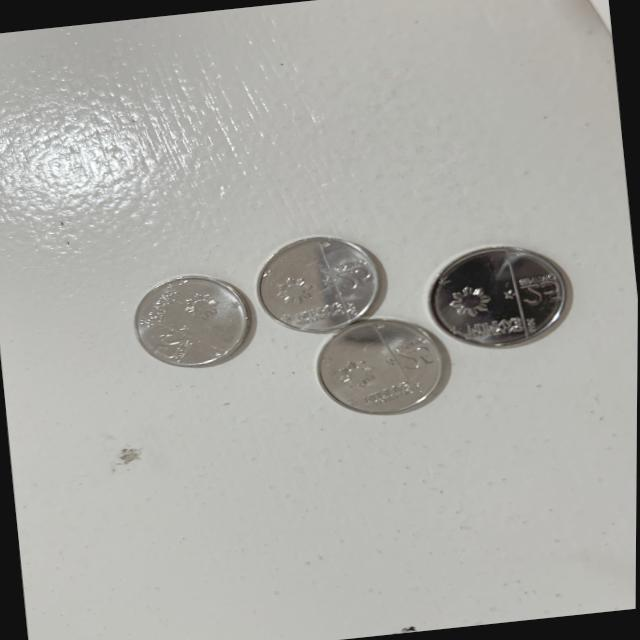25Cent_New_Front: (384, 330, 436, 378), (514, 262, 560, 308), (331, 254, 385, 291), (151, 329, 194, 361)
